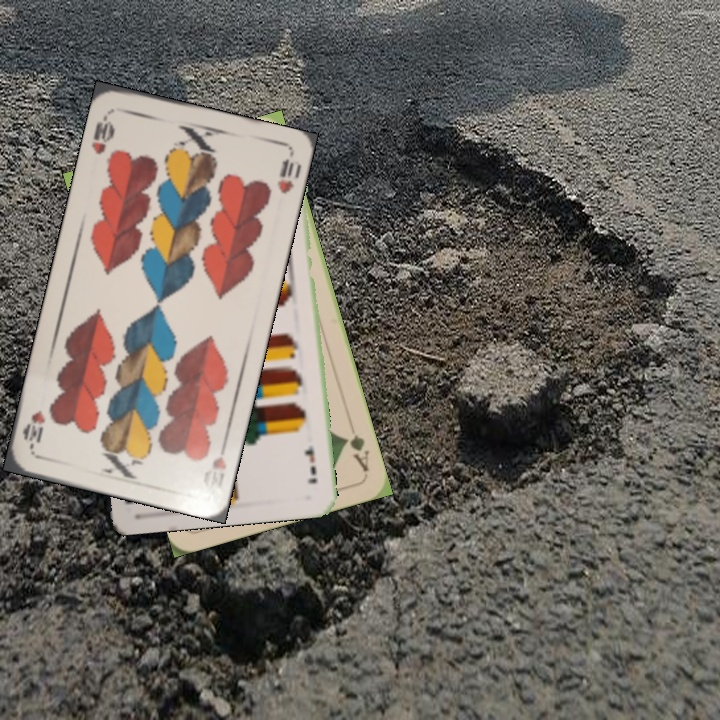E7: (301, 441, 320, 486)
GA: (340, 430, 372, 474)
H10: (87, 109, 117, 157), (208, 435, 230, 473)
